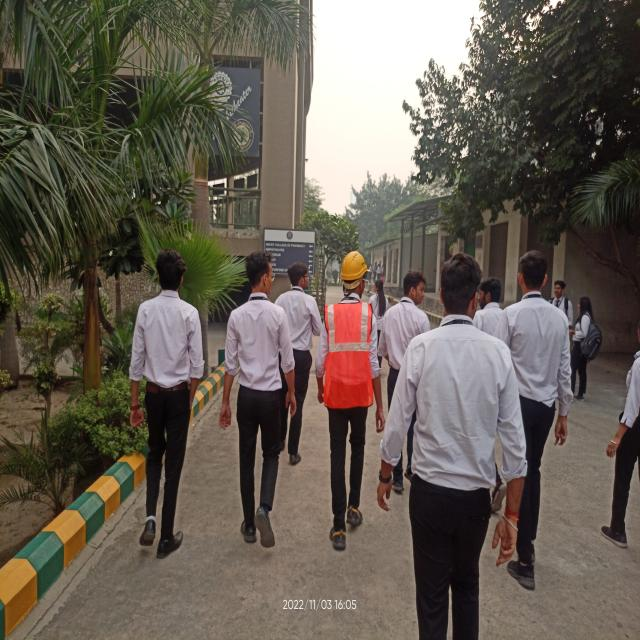safe: (321, 249, 375, 550)
unsafe: (379, 251, 516, 585), (498, 244, 571, 585), (220, 250, 298, 551), (133, 245, 205, 552), (268, 265, 322, 469), (382, 265, 432, 408), (572, 294, 602, 407), (373, 263, 377, 282), (369, 264, 372, 285), (382, 264, 385, 276), (378, 264, 380, 280)
